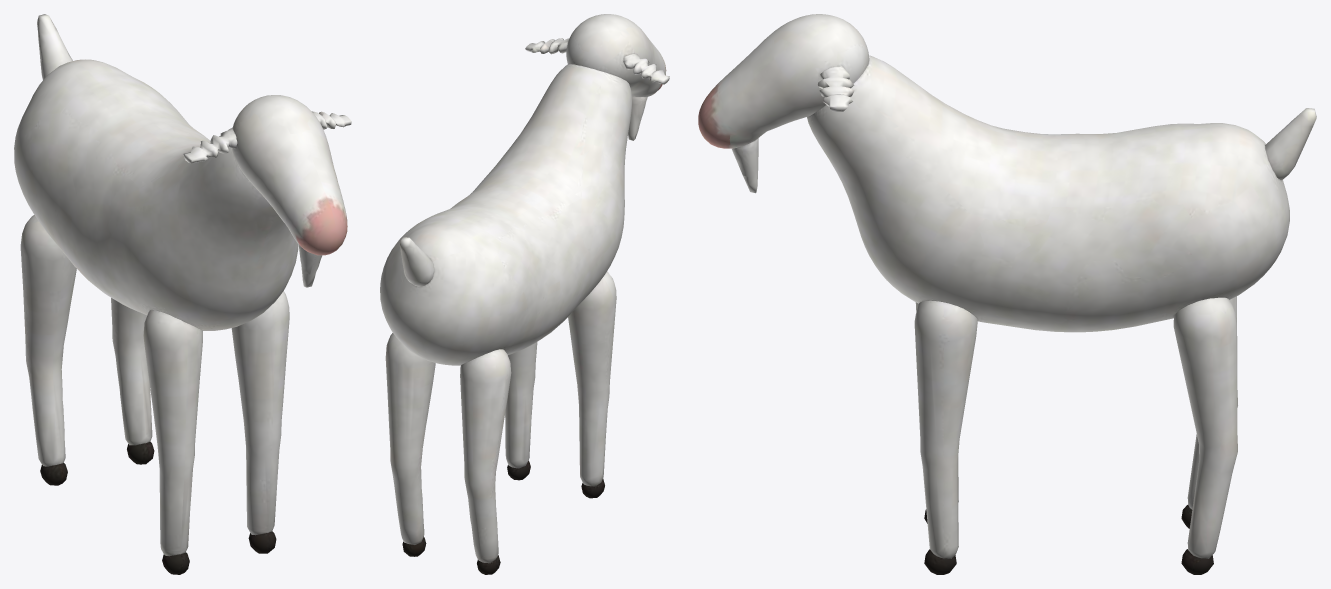
File: animal_saanen_goat.glb
3 renders of one model, left to right at view 1: azimuth 30°, elevation 25°; view 2: azimuth 150°, elevation 25°; view 3: azimuth 270°, elevation 25°, orthographic. The views are drawn at different scales.
Parts seen in each view (by area): view 1: animal_saanen_goat, head, leg0, leg2, leg1, leg3, tail; view 2: animal_saanen_goat, leg2, leg3, leg0, head, leg1, tail; view 3: animal_saanen_goat, head, leg3, leg1, tail, leg2.
Boxes of the visible parts, <box> form: animal_saanen_goat: <box>14,59,298,330</box>; head: <box>183,95,351,287</box>; leg0: <box>143,310,202,574</box>; leg2: <box>20,215,76,485</box>; leg1: <box>231,291,289,553</box>; leg3: <box>111,298,154,464</box>; tail: <box>37,14,72,79</box>; animal_saanen_goat: <box>380,64,631,365</box>; leg2: <box>460,349,511,574</box>; leg3: <box>385,333,435,556</box>; leg0: <box>568,271,616,498</box>; head: <box>525,14,669,140</box>; leg1: <box>505,342,537,480</box>; tail: <box>399,237,434,286</box>; animal_saanen_goat: <box>807,55,1289,332</box>; head: <box>698,14,869,193</box>; leg3: <box>1173,297,1237,574</box>; leg1: <box>914,300,977,574</box>; tail: <box>1265,108,1316,179</box>; leg2: <box>1181,296,1237,528</box>.
Bounding box in the file's own units: 0.1574 × 0.4694 × 0.493.
1 material, 1 textured.
